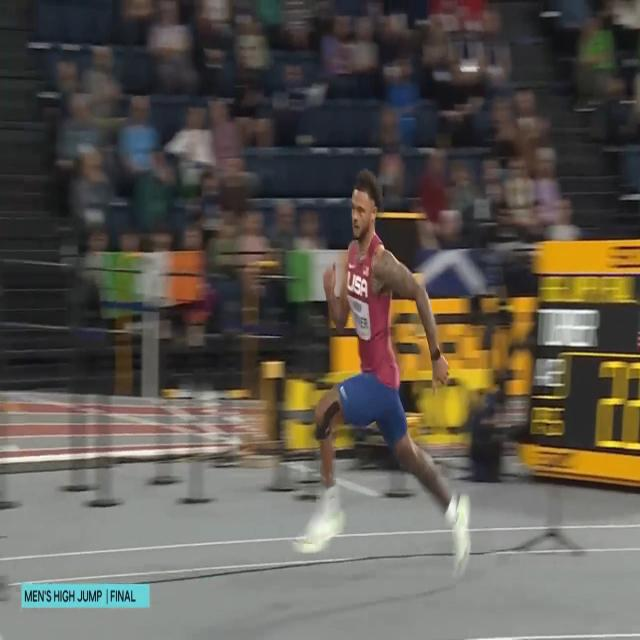run: (288, 162, 474, 578)
